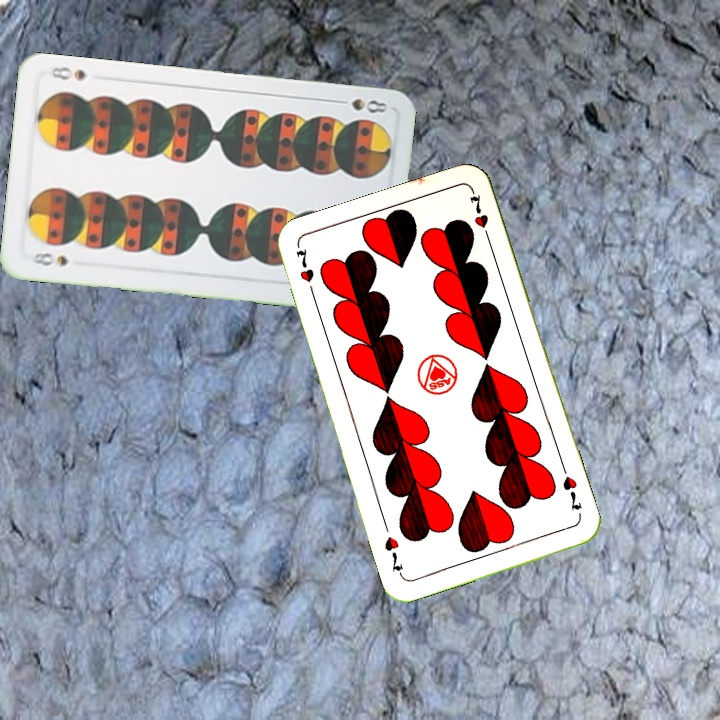H7: (292, 243, 318, 301), (558, 472, 584, 513)
S8: (331, 95, 390, 116), (29, 248, 71, 269)
